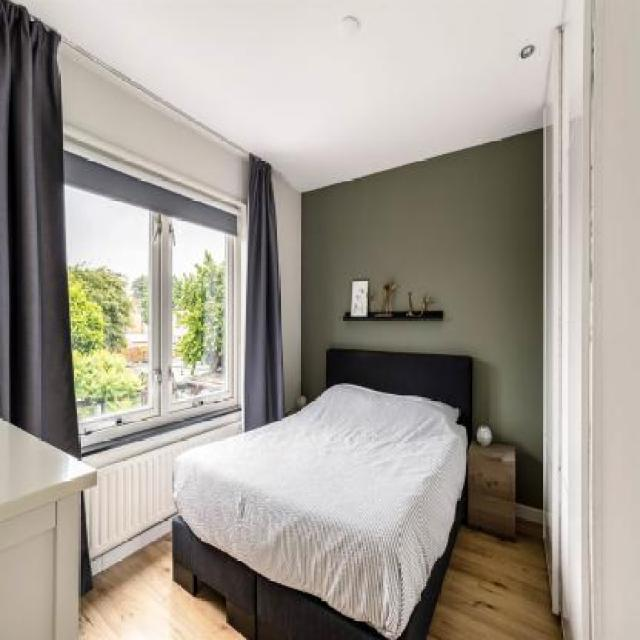floor: (79, 529, 248, 640), (423, 515, 569, 640)
